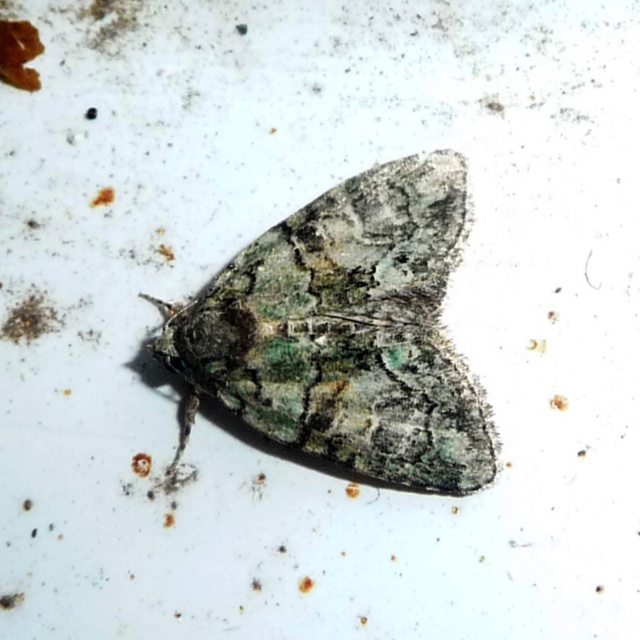Butterfly: (145, 149, 507, 497)
